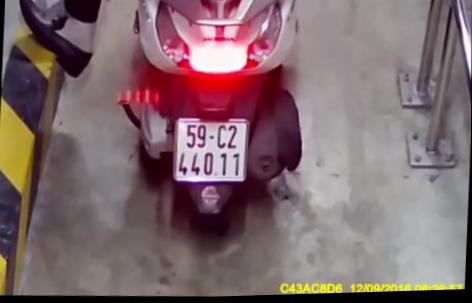LP: (170, 116, 251, 186)
